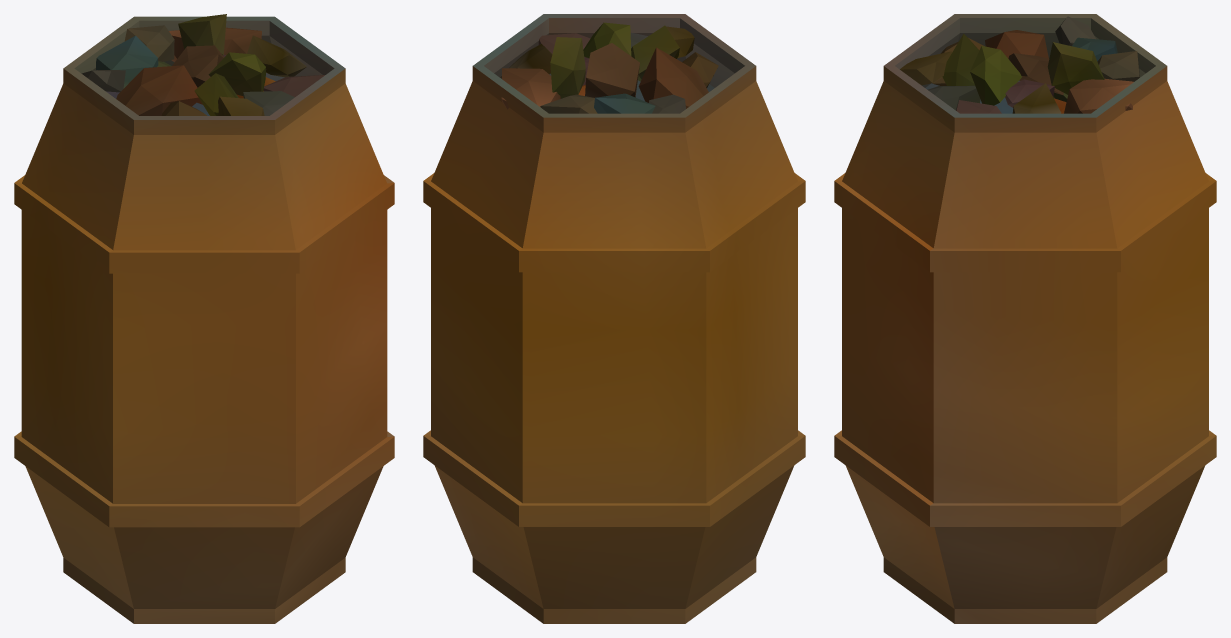
File: mega-pack-cylinder-002.glb
3 renders of one model, left to right at view 1: azimuth 30°, elevation 25°; view 2: azimuth 150°, elevation 25°; view 3: azimuth 270°, elevation 25°, orthographic.
Visible parts, largest first — view 1: Cylinder.002; view 2: Cylinder.002; view 3: Cylinder.002.
Part boxes in pixels (x1,y1,x2,y2): Cylinder.002: (14, 14, 394, 623); Cylinder.002: (423, 14, 805, 623); Cylinder.002: (834, 14, 1216, 623).
Bounding box in the file's own units: 0.4562 × 0.82 × 0.5268.
1 material, 1 textured.
